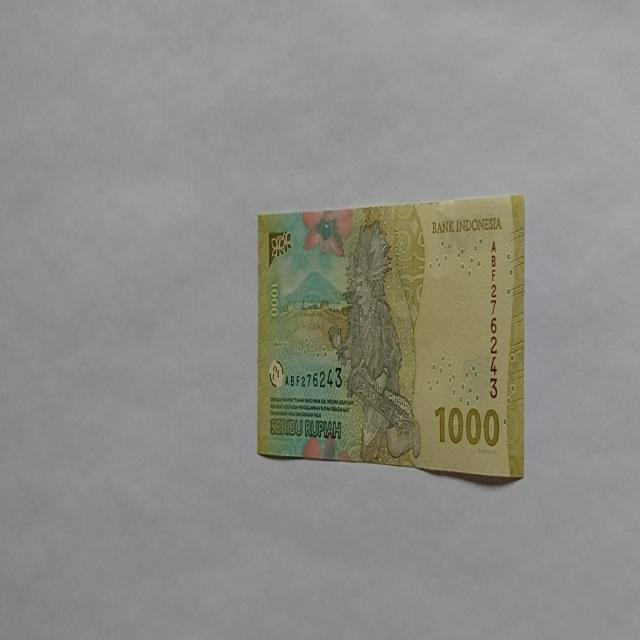seribu rupiah kertas: (256, 192, 526, 481)
